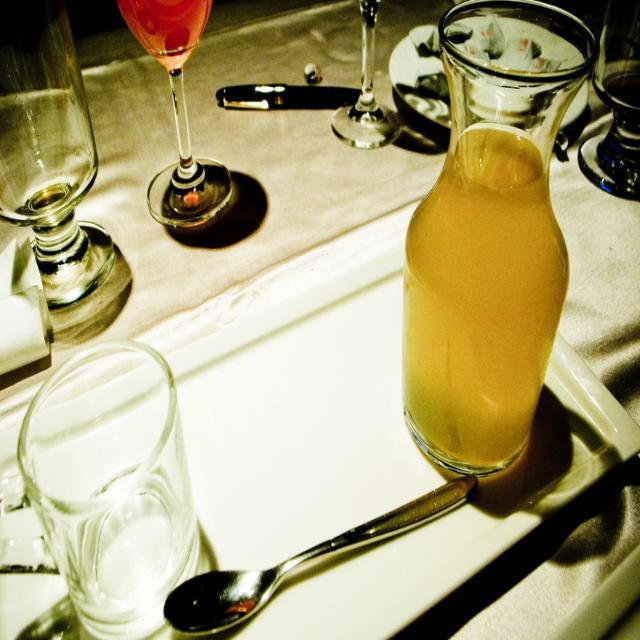Juice: (410, 54, 575, 489), (116, 0, 211, 69)
